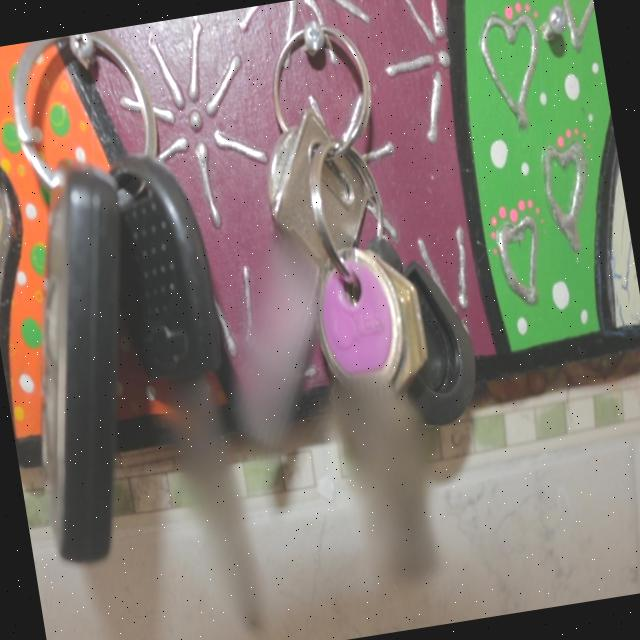Frontdoor keys: (187, 97, 405, 455), (295, 232, 470, 609)
